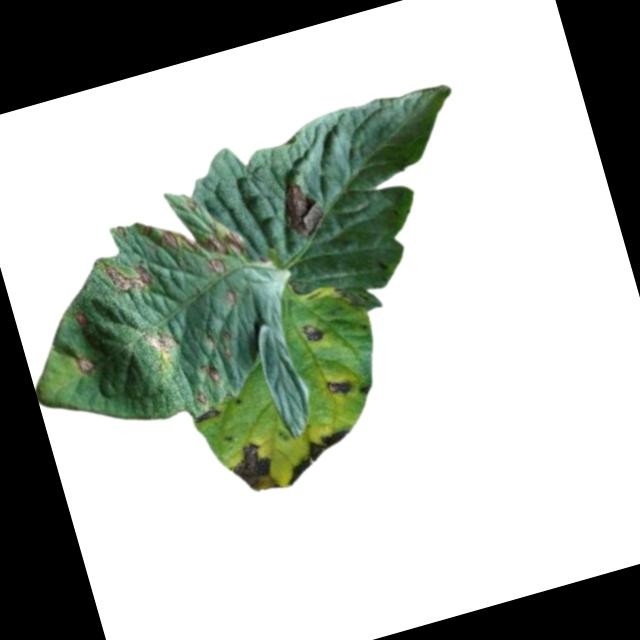Early_blight: (275, 426, 358, 487), (224, 437, 282, 501), (277, 175, 329, 243), (101, 250, 155, 299), (200, 219, 248, 263), (139, 324, 179, 358), (325, 373, 359, 400), (300, 319, 326, 345), (72, 352, 98, 378), (188, 405, 220, 426), (160, 228, 181, 254), (204, 361, 223, 385), (206, 255, 225, 275), (194, 387, 211, 406)
